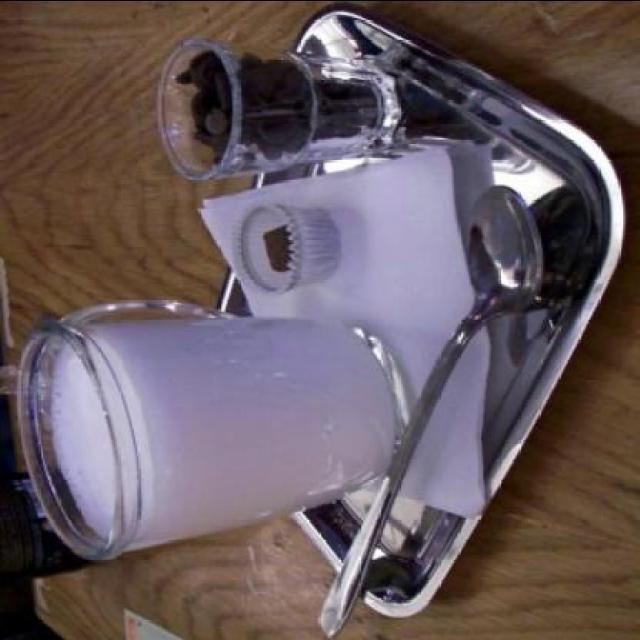Milk: (24, 294, 407, 586)
